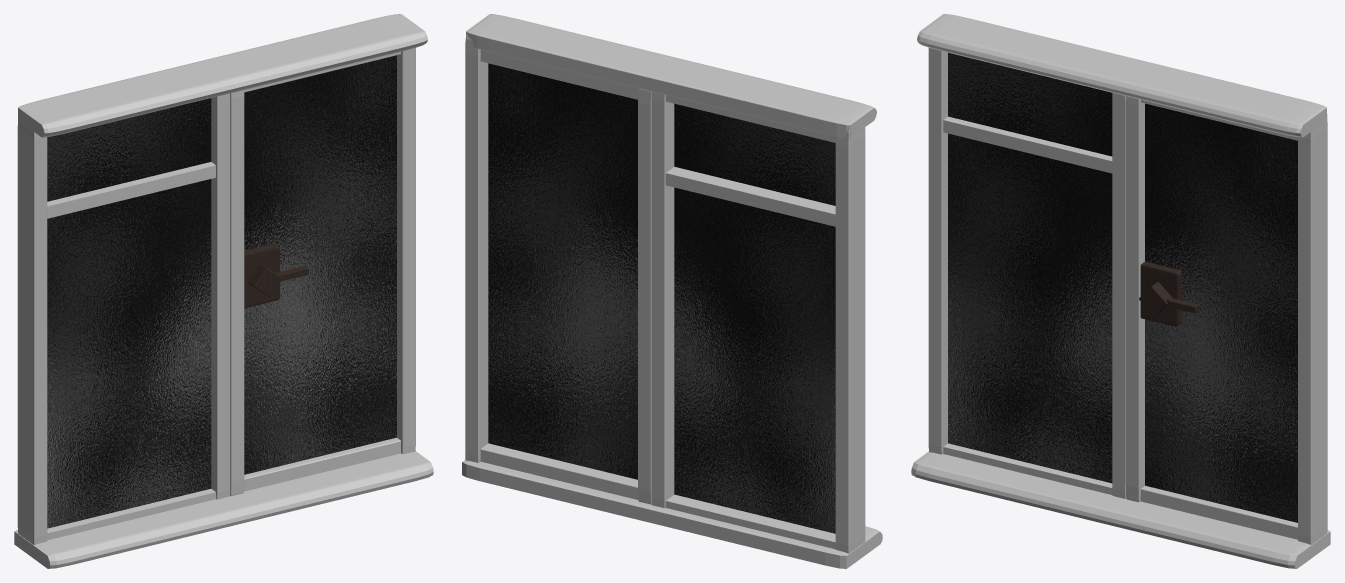
The model's file is окно.fbx.
3 renders of one model, left to right at view 1: azimuth 30°, elevation 25°; view 2: azimuth 150°, elevation 25°; view 3: azimuth 330°, elevation 25°, orthographic.
Visible parts, largest first — view 1: Cube.137; view 2: Cube.137; view 3: Cube.137.
Part boxes in pixels (bbox=[...]): Cube.137: bbox=[14, 14, 433, 568]; Cube.137: bbox=[462, 14, 882, 568]; Cube.137: bbox=[911, 14, 1330, 568].
Size of the model in its own units: 385 by 423 by 68.87.
